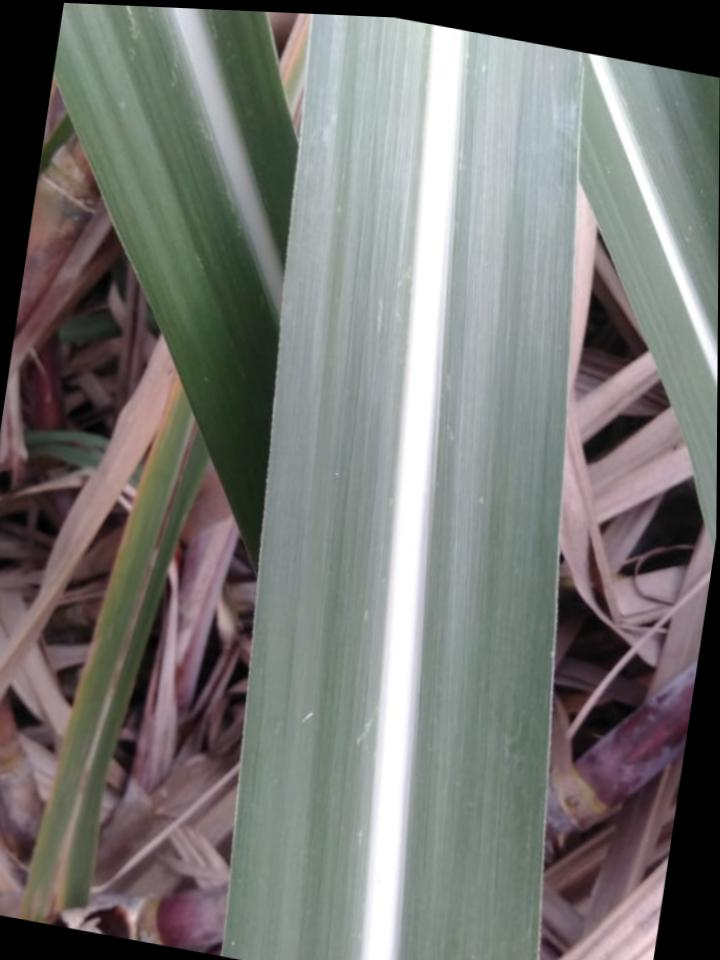Healthy: (223, 14, 577, 960), (55, 3, 299, 574), (578, 52, 720, 557)
RedRot: (153, 417, 197, 554), (110, 562, 153, 693), (49, 860, 61, 918), (80, 769, 89, 795)
Yellow: (19, 376, 184, 919), (58, 858, 75, 912)
